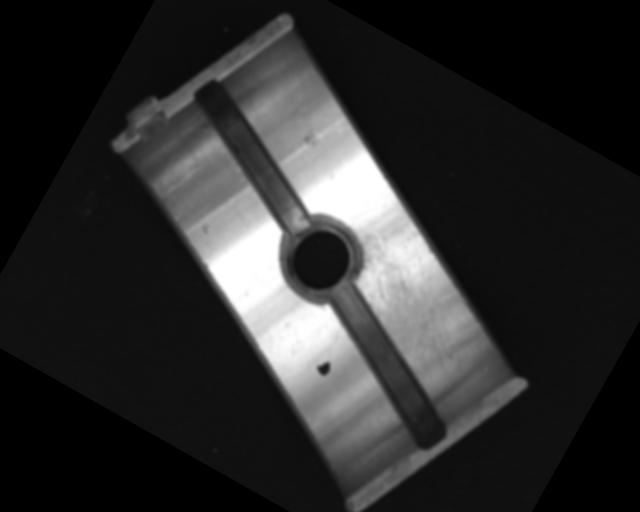blot: (313, 355, 335, 379)
bruise: (300, 126, 323, 151), (199, 222, 213, 236)
gap: (288, 278, 487, 454), (158, 74, 349, 238)
hole: (267, 202, 375, 314)
nick: (155, 152, 202, 208)
scratch: (301, 188, 507, 386)
